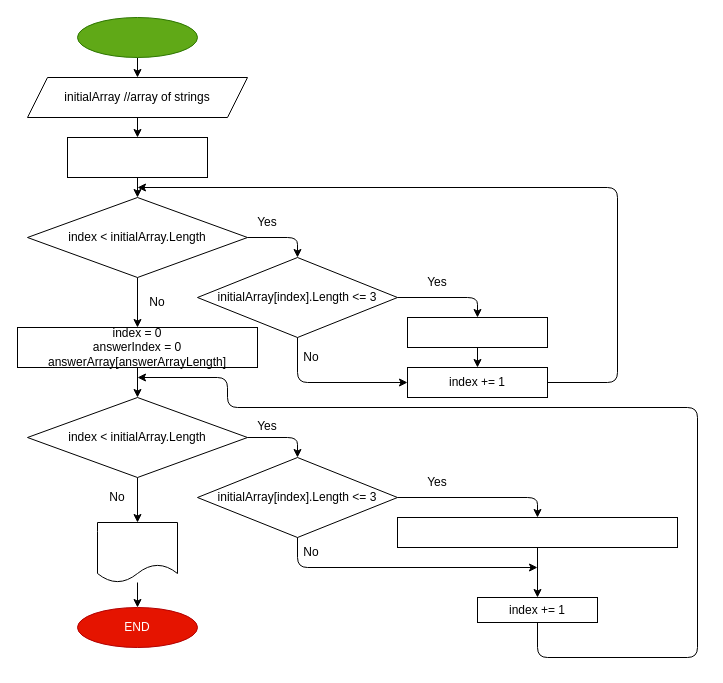
Some shapes in this 723 by 683 pixel diagram are drawn without their labels. Each missing label, with the box of its shape:
answerArray: (96, 522, 178, 582)
answerArray[answerIndex] = initialArray[index] answerIndex += 1: (396, 516, 678, 548)
answerArrayLength += 1: (406, 316, 548, 348)
answerArrayLength = 0 index = 0: (66, 136, 208, 178)
BEGIN: (76, 16, 198, 58)
